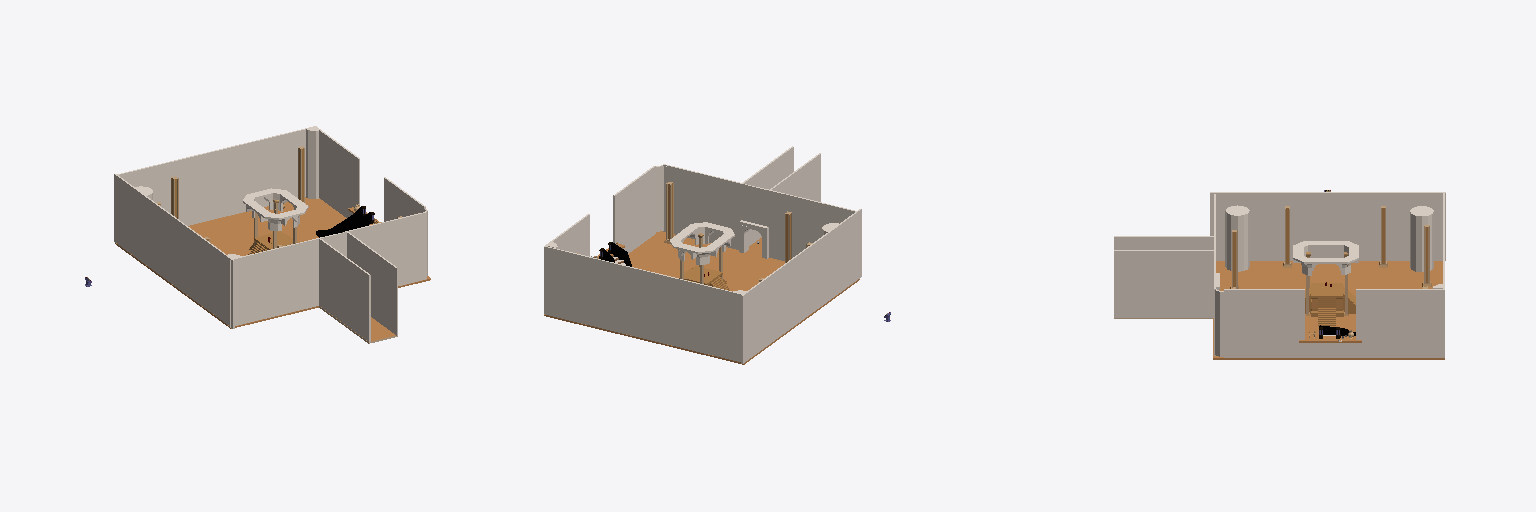
File: temple_main_room.obj
The picture shows the model from 3 angles: view 1: azimuth 30°, elevation 25°; view 2: azimuth 150°, elevation 25°; view 3: azimuth 270°, elevation 25°; orthographic projection.
Visible parts, largest first — view 1: mergedBlocks; view 2: mergedBlocks; view 3: mergedBlocks.
Part boxes in pixels (bbox=[...]): mergedBlocks: bbox=[85, 126, 430, 343]; mergedBlocks: bbox=[544, 146, 890, 364]; mergedBlocks: bbox=[1114, 190, 1445, 359].
Size of the model in its own units: 36.51 by 8.52 by 35.97.